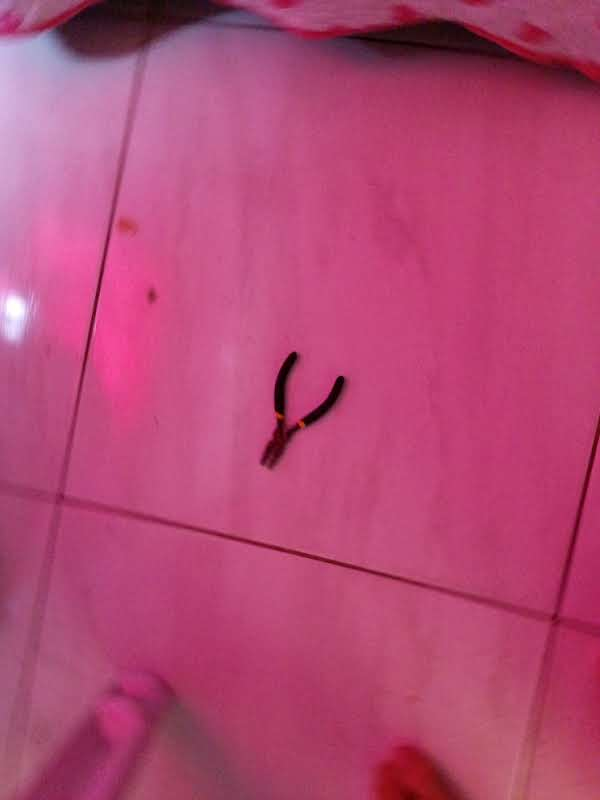Pinzas: (260, 351, 344, 468)
